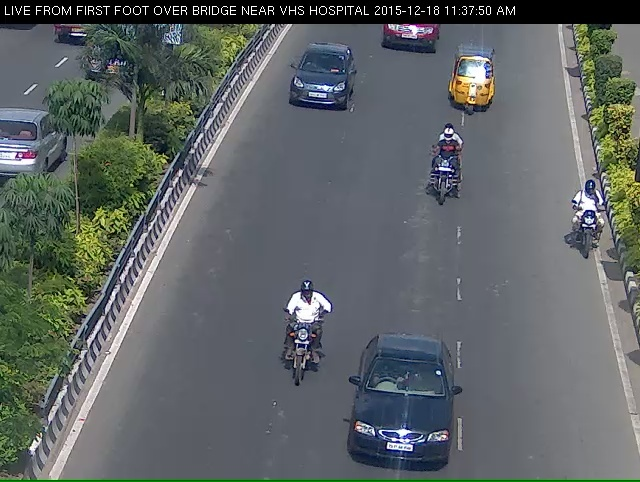Car: (348, 354, 463, 480), (291, 43, 353, 129), (444, 55, 505, 130), (371, 17, 445, 64)
Person: (274, 309, 317, 418), (423, 142, 472, 237), (566, 185, 617, 272)
